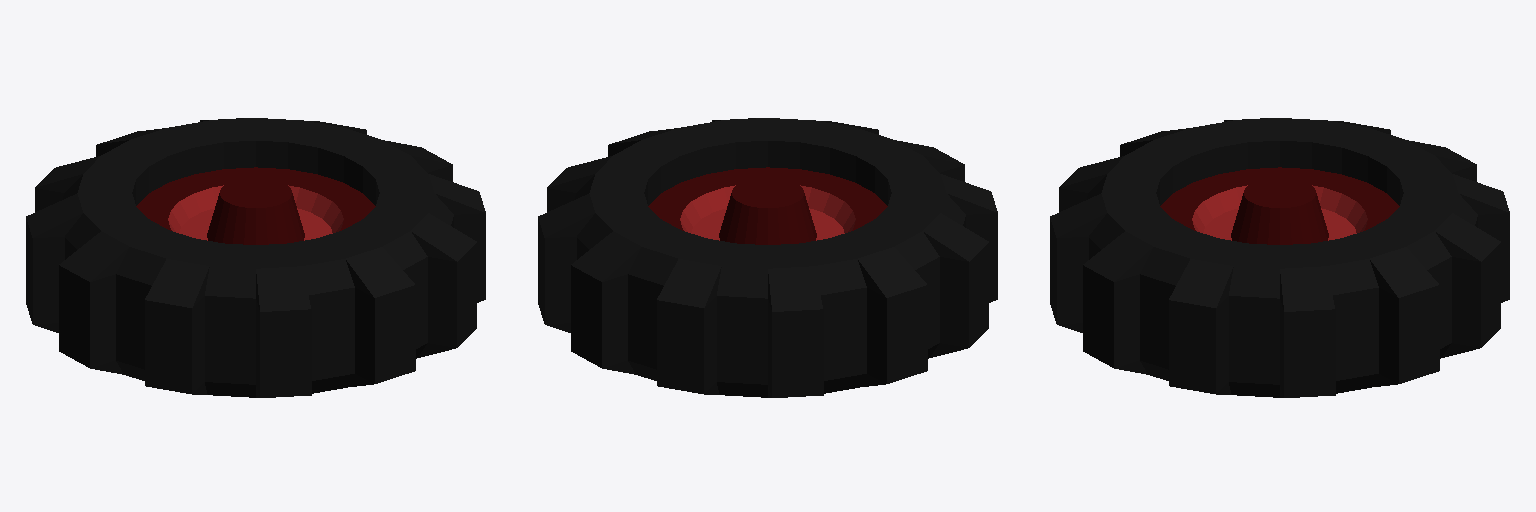
The model's file is car1wheel.obj.
3 views of the same model, side by side, from view 1: azimuth 30°, elevation 25°; view 2: azimuth 150°, elevation 25°; view 3: azimuth 270°, elevation 25° (orthographic).
Parts seen in each view (by area): view 1: wheel_ridges; view 2: wheel_ridges; view 3: wheel_ridges.
Part boxes in pixels (x1,y1,x2,y2): wheel_ridges: (26, 118, 485, 397); wheel_ridges: (538, 118, 997, 397); wheel_ridges: (1050, 118, 1509, 397).
Bounding box in the file's own units: 0.7152 × 0.2163 × 0.7152.